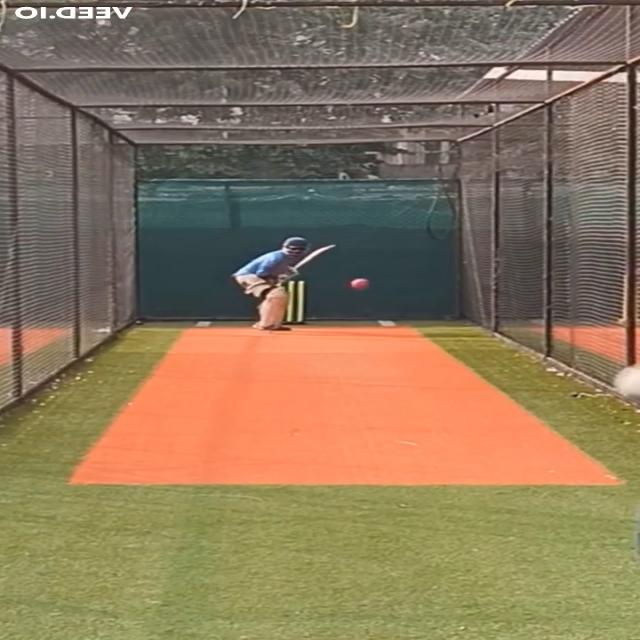ball: (348, 277, 371, 291)
stump: (282, 280, 307, 324)
